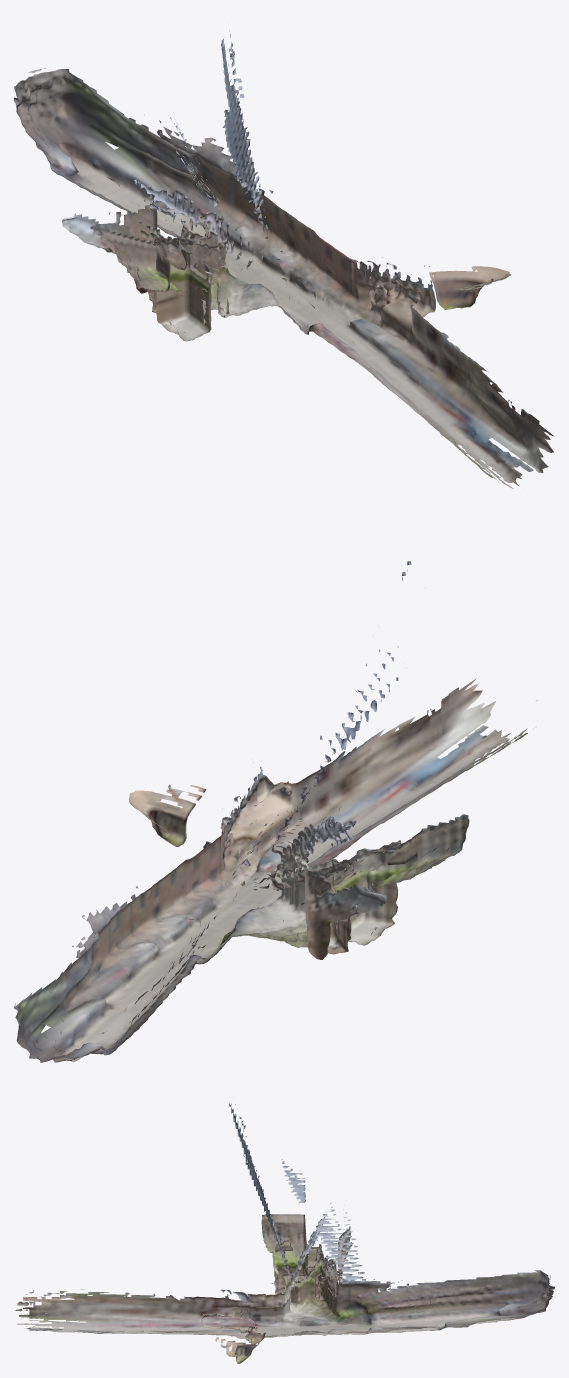
File: 01_strada_incrocio_collider.glb
3 views of the same model, one above another, from view 1: azimuth 30°, elevation 25°; view 2: azimuth 150°, elevation 25°; view 3: azimuth 270°, elevation 25° (orthographic). The views are drawn at different scales.
Visible parts, largest first — view 1: world; view 2: world; view 3: world.
Part boxes in pixels (x1=…): world: x1=14, y1=30, x2=554, y2=488; world: x1=14, y1=561, x2=537, y2=1062; world: x1=15, y1=1103, x2=554, y2=1363.
Bounding box in the file's own units: 47.65 × 47.66 × 112.
